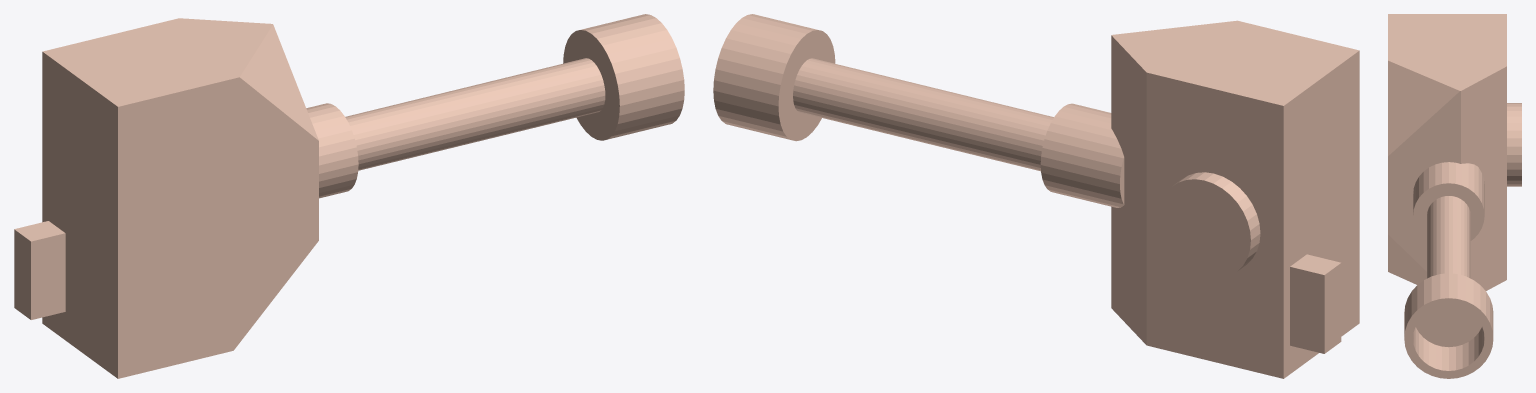
Rendered from Enemy02Head.fbx.
3 renders of one model, left to right at view 1: azimuth 30°, elevation 25°; view 2: azimuth 150°, elevation 25°; view 3: azimuth 270°, elevation 25°, orthographic. The views are drawn at different scales.
Parts seen in each view (by area): view 1: Head; view 2: Head; view 3: Head.
Boxes of the visible parts, x1,y1,x2,y2 form: Head: [14, 14, 684, 378]; Head: [713, 14, 1359, 378]; Head: [1388, 14, 1521, 378].
Bounding box in the file's own units: 212 × 90.14 × 51.11.
Materials: 1 (1 with a texture image).
